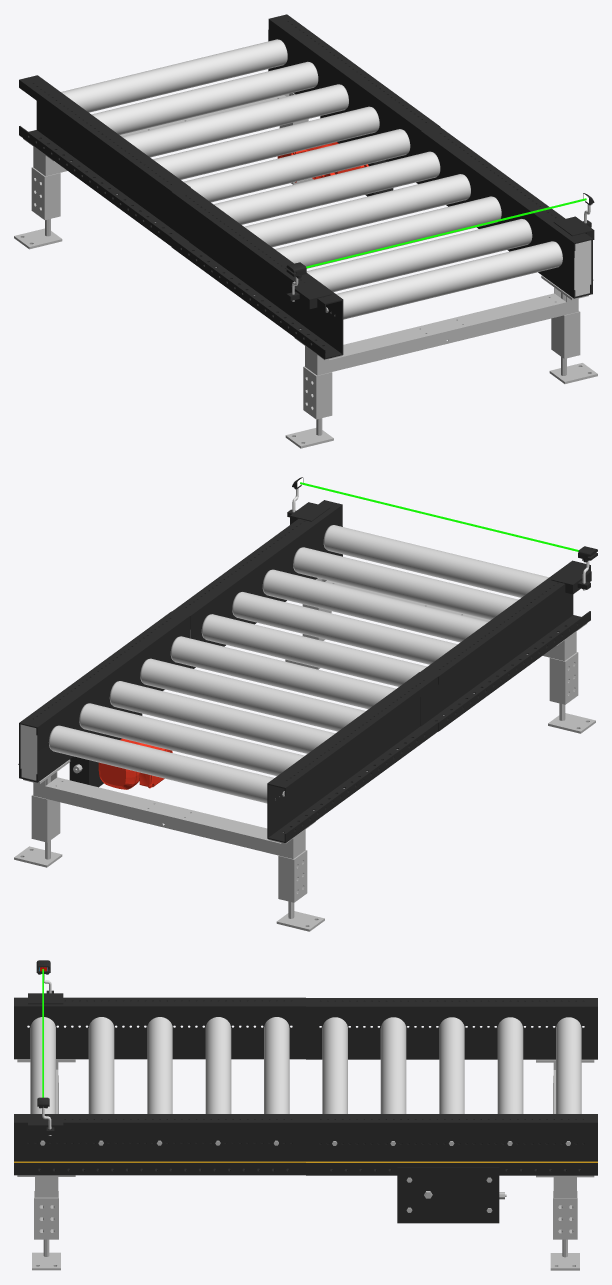
File: RollConveyor-2m.glb
3 renders of one model, top to bottom at view 1: azimuth 30°, elevation 25°; view 2: azimuth 150°, elevation 25°; view 3: azimuth 270°, elevation 25°, orthographic. The views are drawn at different scales.
Visible parts, largest first — view 1: Roll (×2), T2, T1, Light, Ray, Reflector; view 2: Roll (×2), T1, T2, DriveMesh, Light, Ray, Reflector; view 3: T1, T2, Roll (×2), Reflector, Light.
Part boxes in pixels (box(x1,y1,x2,y2)): Roll (×2): box(61, 39, 562, 319); T2: box(171, 126, 597, 448); T1: box(14, 14, 440, 249); Light: box(286, 262, 331, 309); Ray: box(306, 198, 586, 268); Reflector: box(553, 193, 594, 239); Roll (×2): box(48, 525, 548, 803); T1: box(14, 611, 437, 931); T2: box(172, 500, 595, 733); DriveMesh: box(98, 738, 172, 789); Light: box(551, 546, 597, 594); Ray: box(300, 482, 578, 551); Reflector: box(287, 477, 330, 524); T1: box(306, 998, 597, 1270); T2: box(14, 997, 305, 1270); Roll (×2): box(30, 1017, 581, 1113); Reflector: box(28, 1097, 63, 1135); Light: box(28, 960, 63, 1004).
Bounding box in the file's own units: 1.14 × 0.6423 × 2.
